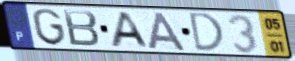3: (227, 12, 261, 56)
A: (147, 11, 188, 52), (109, 11, 152, 50)
B: (61, 8, 102, 49)
D: (188, 11, 226, 53)
G: (30, 7, 68, 47)
